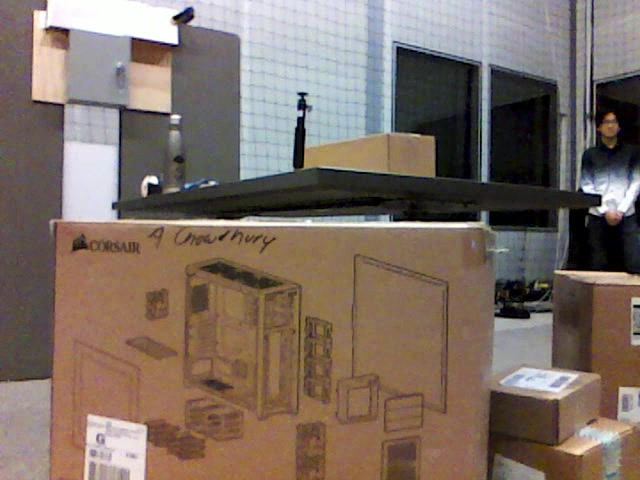box: (52, 217, 494, 480), (554, 266, 639, 424), (494, 421, 637, 480), (493, 366, 599, 443), (306, 131, 440, 176)
